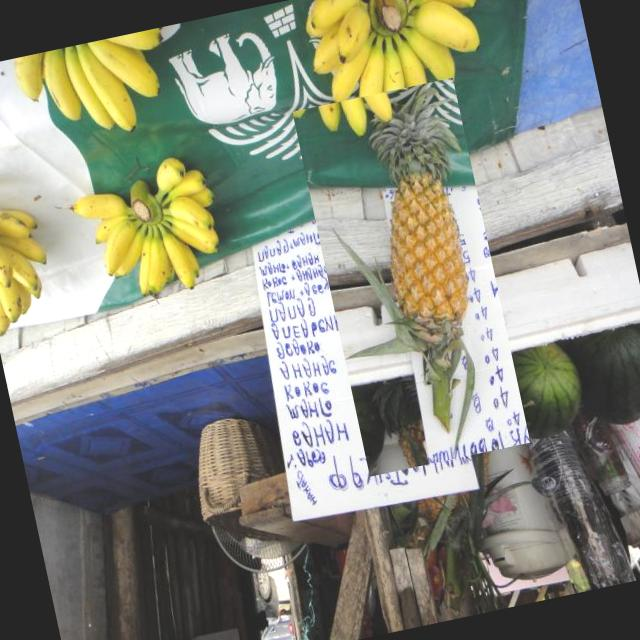Banana: (297, 0, 502, 146), (64, 149, 233, 310), (13, 28, 182, 154), (0, 191, 60, 336)
